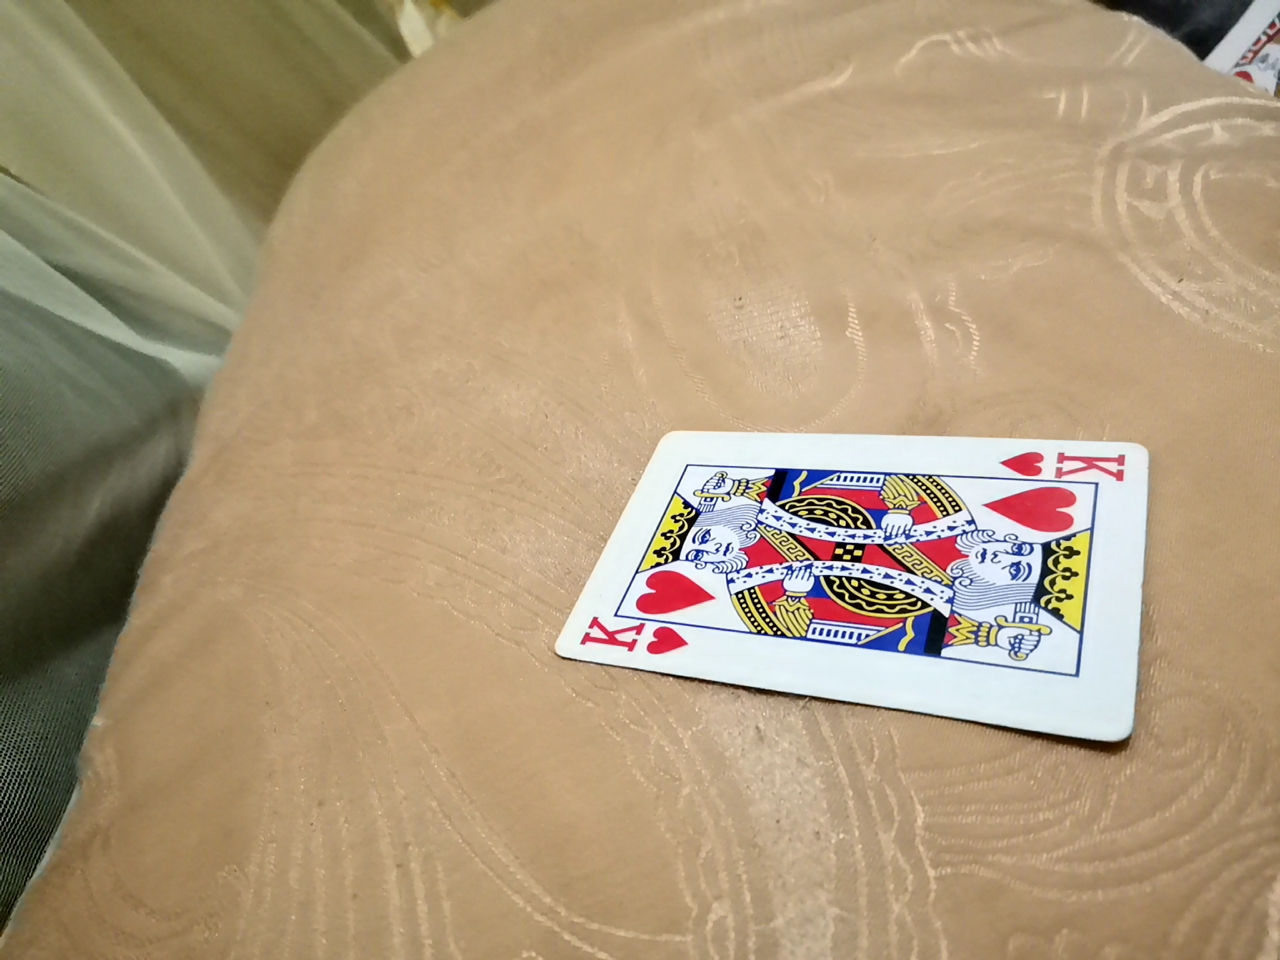hx k: (565, 441, 1161, 754)
